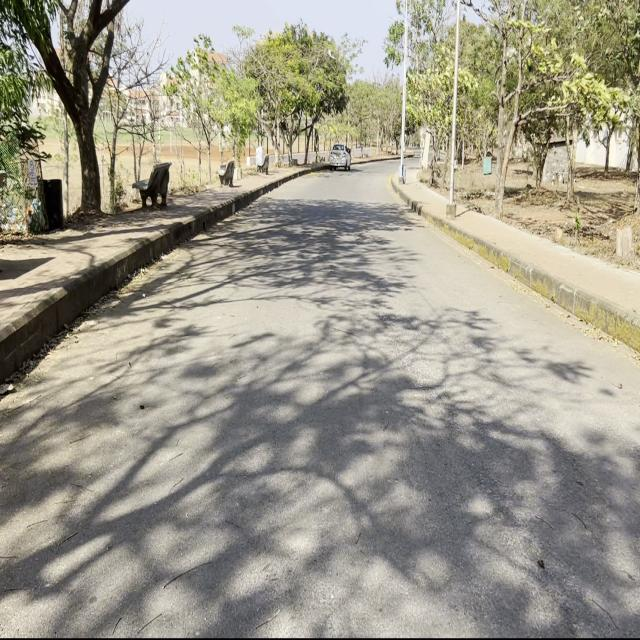Object: (327, 138, 354, 180)
Road: (3, 164, 635, 629)
